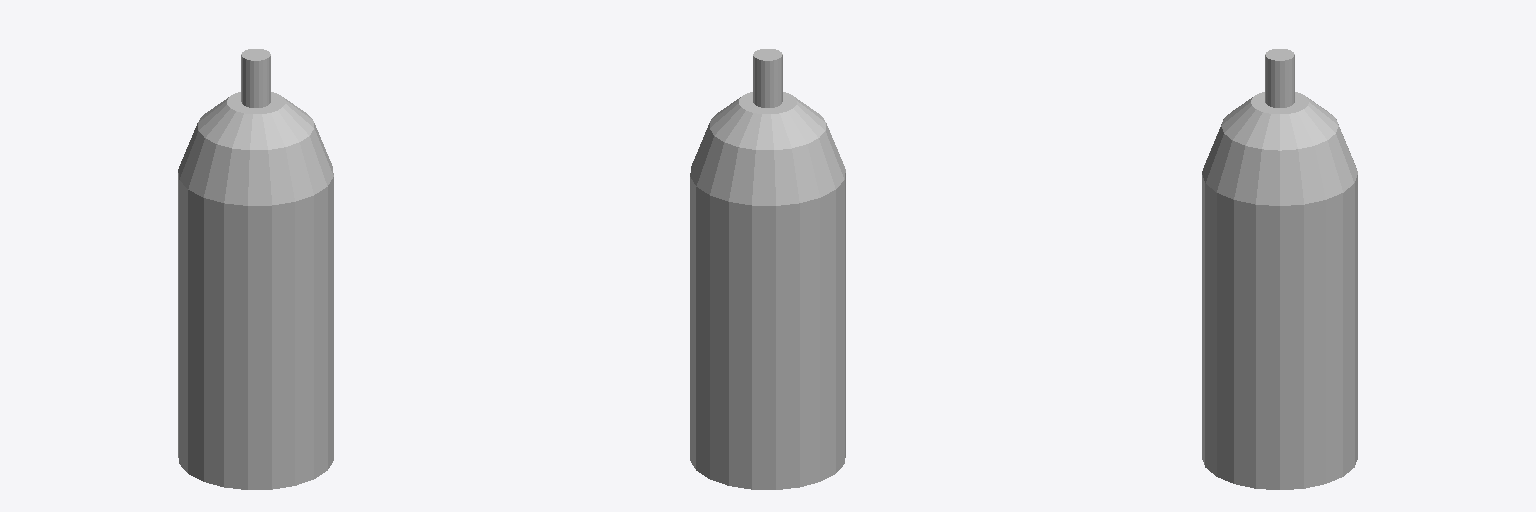
The model's file is Outline_Firehydrant.obj.
The picture shows the model from 3 angles: view 1: azimuth 30°, elevation 25°; view 2: azimuth 150°, elevation 25°; view 3: azimuth 270°, elevation 25°; orthographic projection.
Parts seen in each view (by area): view 1: Props_FireHydrant_Geo:pCylinder5; view 2: Props_FireHydrant_Geo:pCylinder5; view 3: Props_FireHydrant_Geo:pCylinder5.
Boxes of the visible parts, <box> form: Props_FireHydrant_Geo:pCylinder5: <box>178,49,333,489</box>; Props_FireHydrant_Geo:pCylinder5: <box>690,49,845,489</box>; Props_FireHydrant_Geo:pCylinder5: <box>1202,49,1357,489</box>.
Bounding box in the file's own units: 0.3 × 0.85 × 0.3.